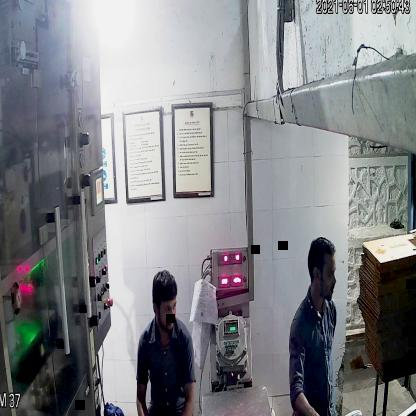no_goggles: (146, 297, 181, 320), (308, 263, 340, 288)
